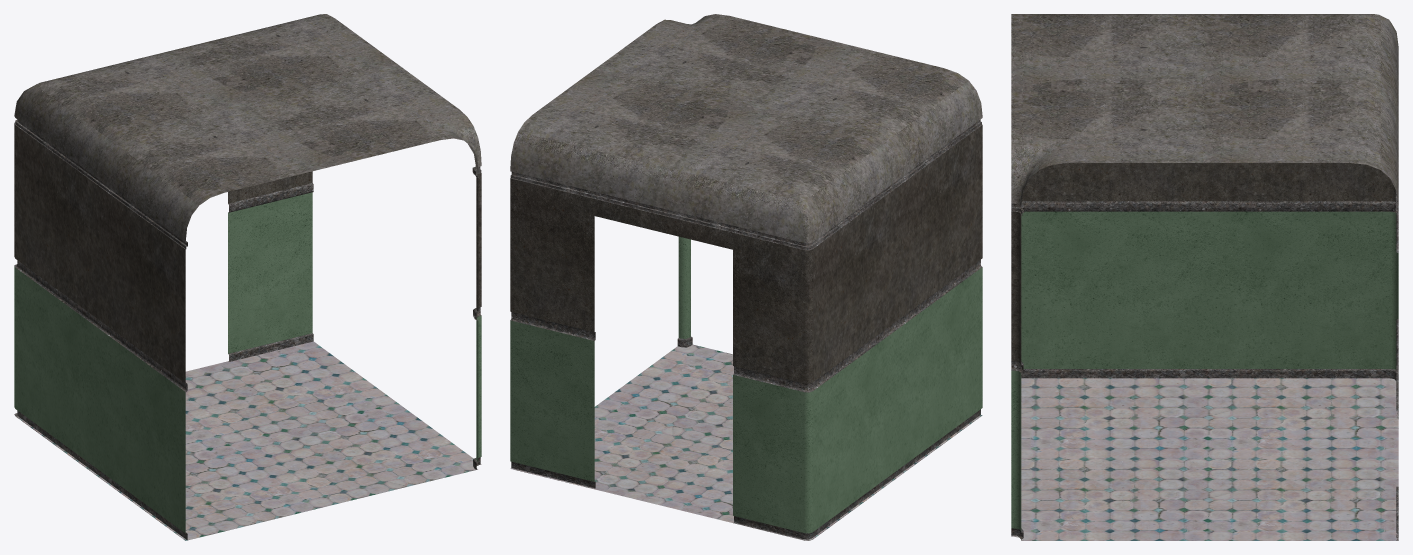
Rendered from CorridorBlockCorner_WithDoorway_01.FBX.
3 renders of one model, left to right at view 1: azimuth 30°, elevation 25°; view 2: azimuth 150°, elevation 25°; view 3: azimuth 270°, elevation 25°, orthographic. The views are drawn at different scales.
Parts seen in each view (by area): view 1: Corner_WithDoorway; view 2: Corner_WithDoorway; view 3: Corner_WithDoorway.
Boxes of the visible parts, <box> form: Corner_WithDoorway: <box>14,14,481,540</box>; Corner_WithDoorway: <box>510,14,982,540</box>; Corner_WithDoorway: <box>1011,14,1398,540</box>.
Size of the model in its own units: 76.77 by 82.67 by 76.77.
